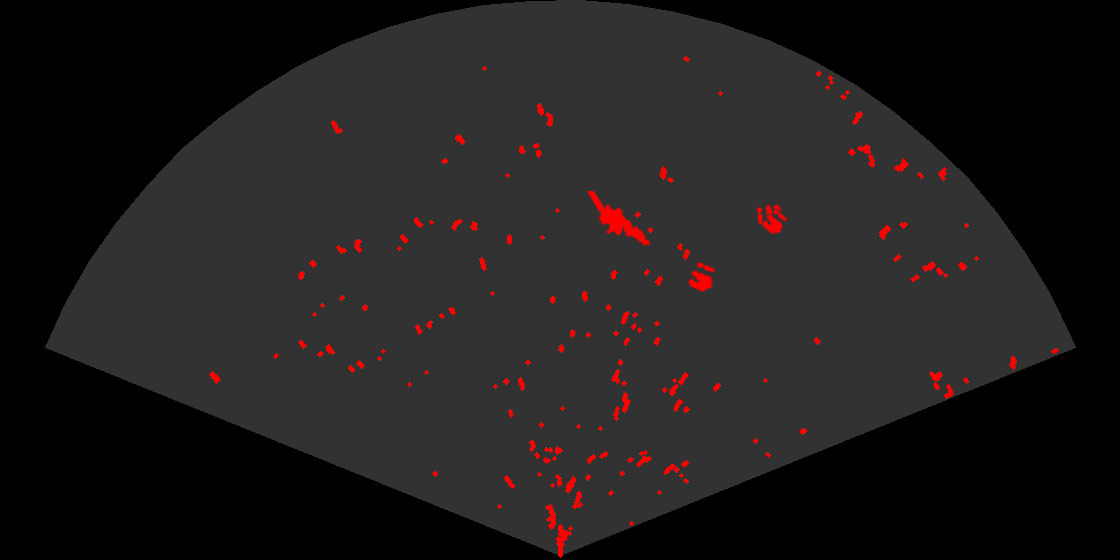ball: (686, 260, 717, 294), (761, 208, 788, 236), (755, 202, 784, 228)
frogman: (588, 191, 652, 248)
